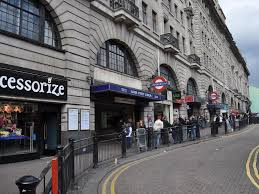London Underground: (150, 76, 168, 92)
